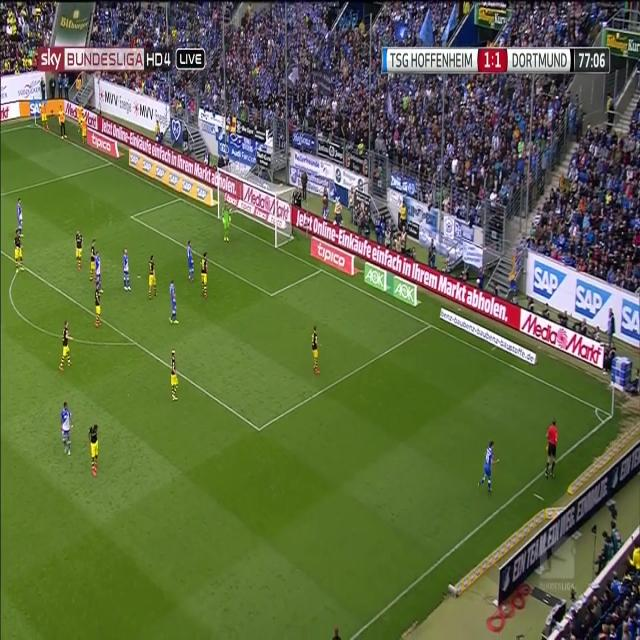Goalkeeper: (219, 197, 234, 243)
Player: (475, 438, 501, 496), (60, 399, 75, 460), (58, 318, 73, 372), (88, 419, 101, 481), (167, 276, 182, 328), (198, 249, 212, 300), (170, 348, 182, 404), (310, 322, 322, 378), (94, 249, 106, 298), (147, 252, 159, 301), (121, 246, 133, 293), (184, 238, 196, 284), (13, 229, 24, 273), (93, 281, 102, 332), (75, 229, 85, 272), (88, 239, 96, 285), (16, 192, 24, 229)
Referee: (543, 414, 561, 482)
